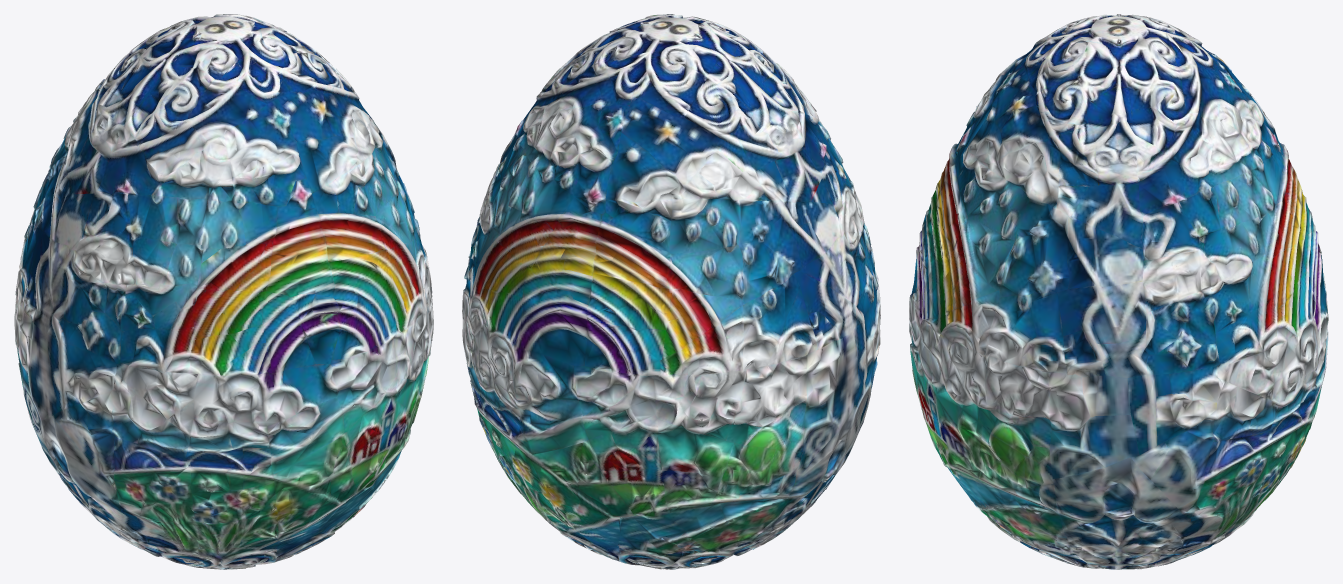
Rendered from Early Adopter.glb.
3 renders of one model, left to right at view 1: azimuth 30°, elevation 25°; view 2: azimuth 150°, elevation 25°; view 3: azimuth 270°, elevation 25°, orthographic.
Size of the model in its own units: 1.37 by 1.9 by 1.37.
1 material, 1 textured.
